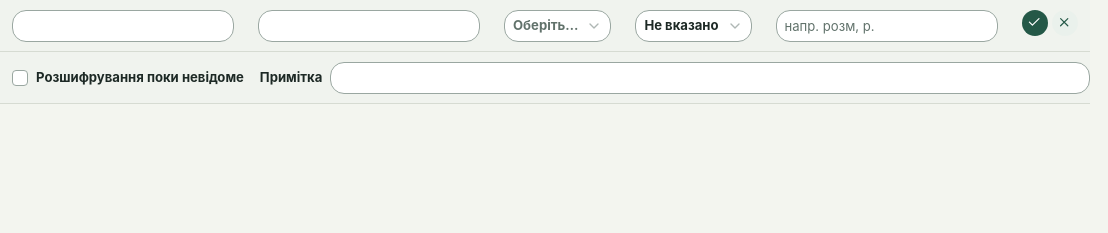
Test: AbbreviationRowForm › surfaces a duplicate warning from the server (AC4)
Type "розм." into the field named "Скорочення". click: (123, 26)
box: [12, 10, 234, 42]
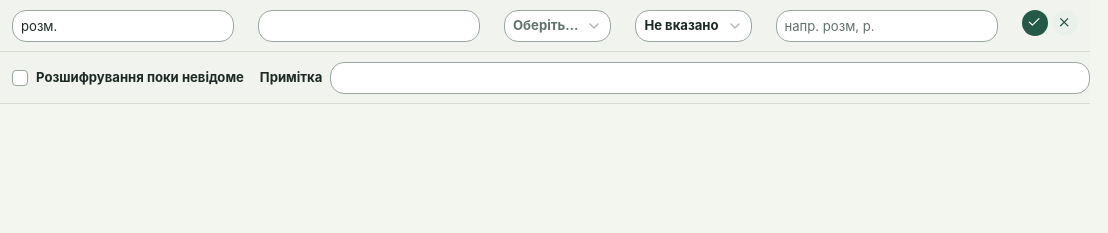
Click the dropdown named "Категорія". click: (558, 26)
box: [504, 10, 611, 42]
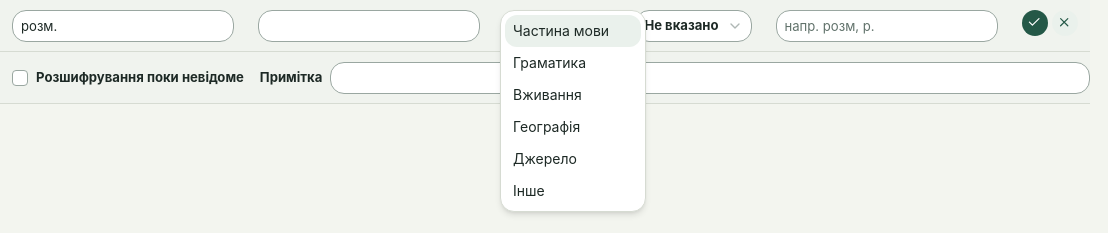
Click the option "Вживання". click: (547, 94)
box: [513, 86, 582, 103]
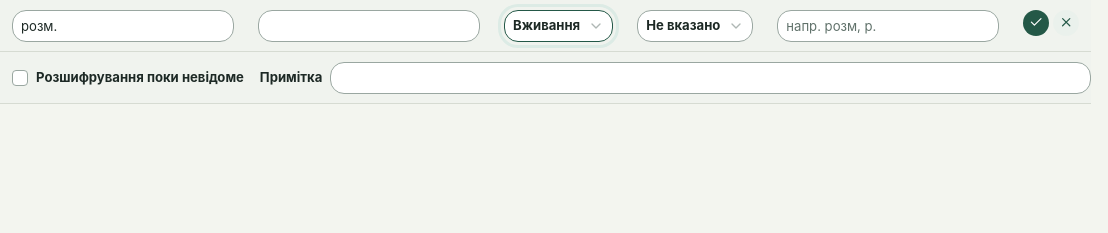
Type "розмовне" into the field named "Повна форма". click: (369, 26)
box: [258, 10, 480, 42]
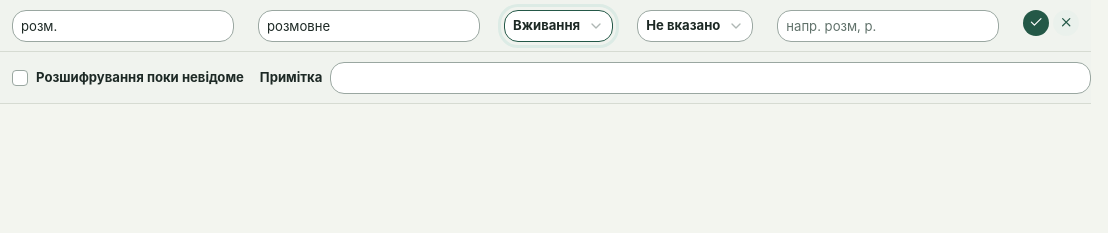
Click the button named "Зберегти". click: (1036, 23)
box: [1023, 10, 1049, 36]
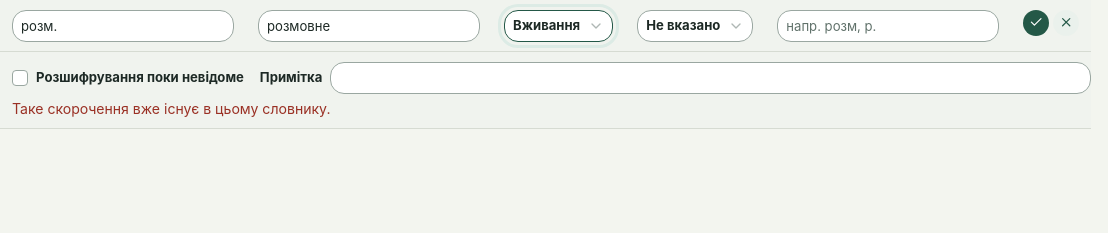
expect the message shows "вже існує": met, box [12, 100, 330, 117]
